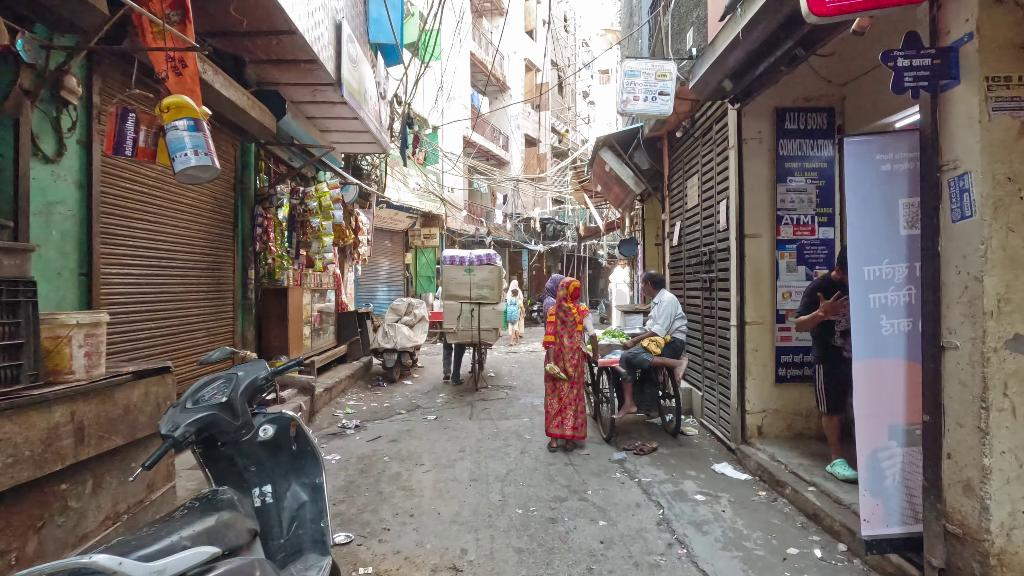garbage: (710, 461, 754, 481), (330, 530, 355, 548), (338, 417, 363, 430), (321, 217, 334, 236), (613, 451, 628, 459), (422, 415, 438, 421), (377, 382, 388, 387), (402, 380, 413, 385), (486, 372, 496, 377)
